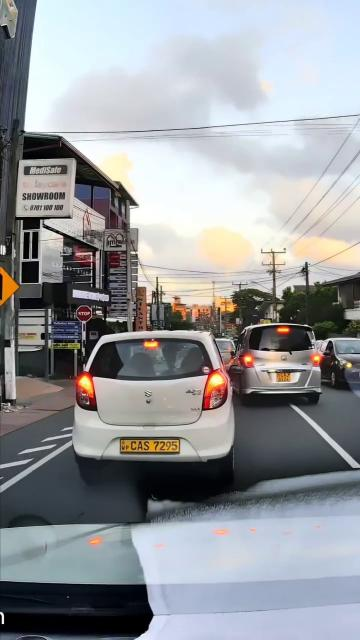number plate: (116, 432, 199, 463)
